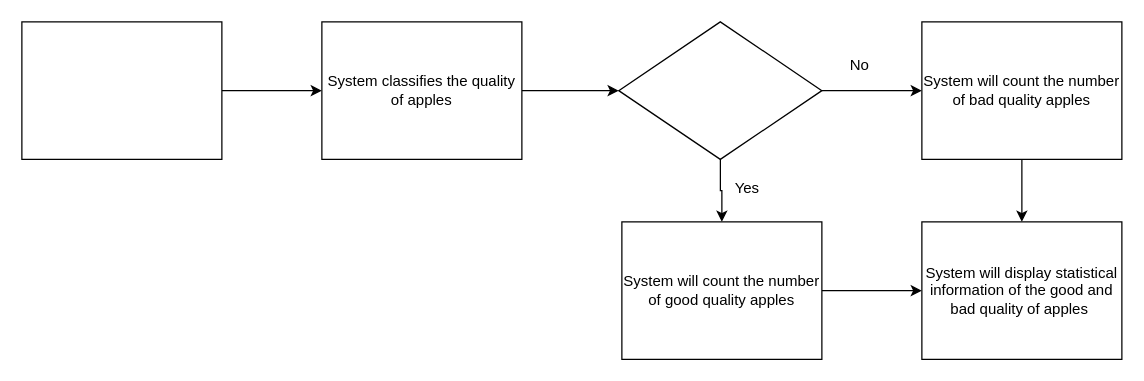
The diagram is 1144 pixels wide and 381 high, and some of its shapes have lost their labels. The shapes that lost their labels are listed below. From the top down, each one's centre as x and y in pixels, then its label:
At point (121, 90): "User input Apple Fruit data in the form of image data".
At point (720, 90): "Apple Quality is Good".
